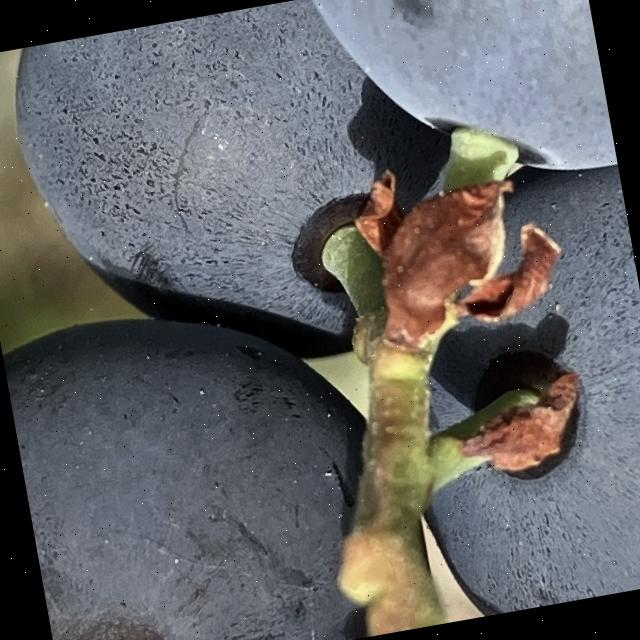Blueberries: (0, 274, 404, 640), (293, 0, 618, 215)
